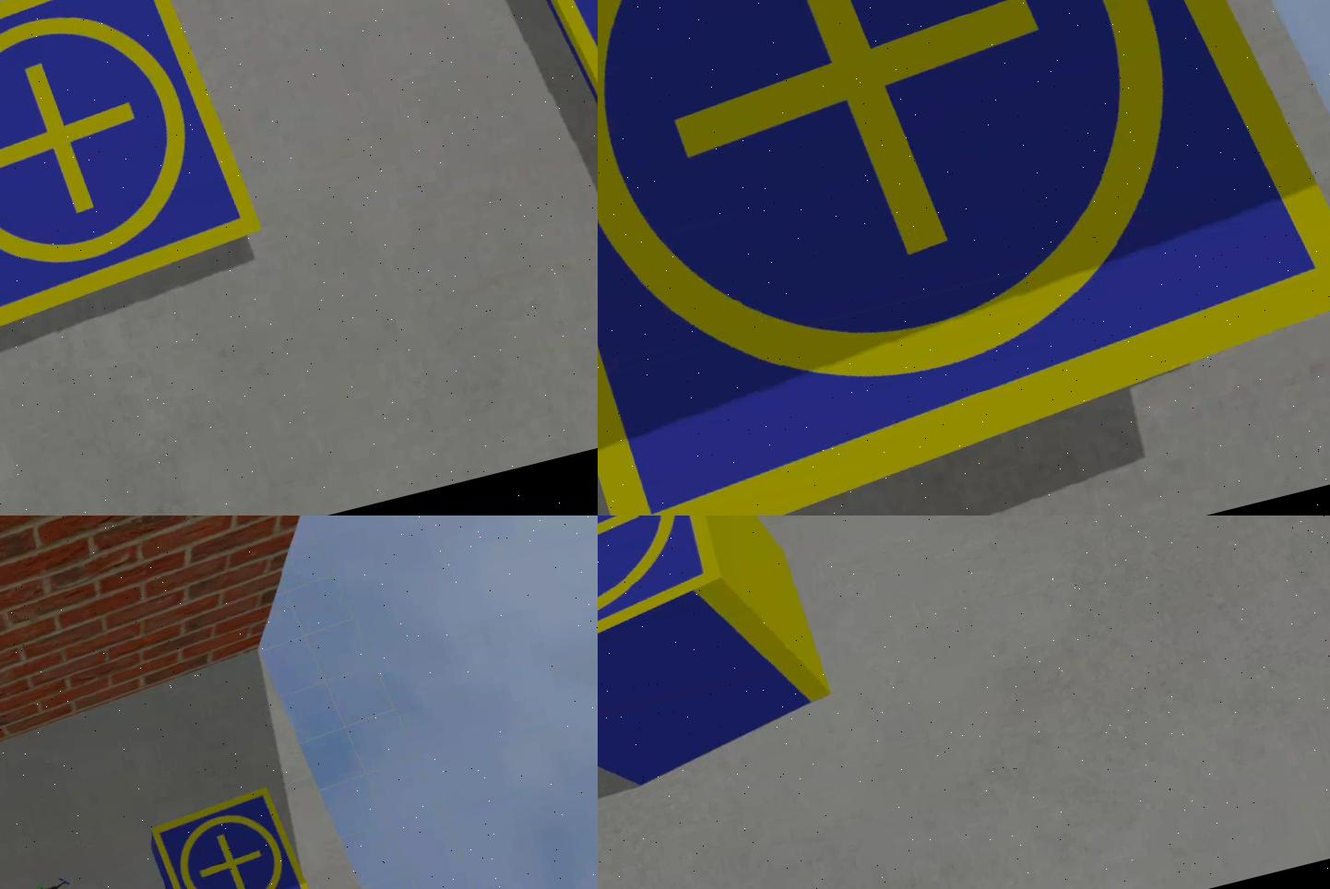small_base: (599, 1, 1330, 516), (1, 1, 278, 351), (599, 516, 735, 679), (512, 1, 599, 233), (146, 784, 316, 889)
